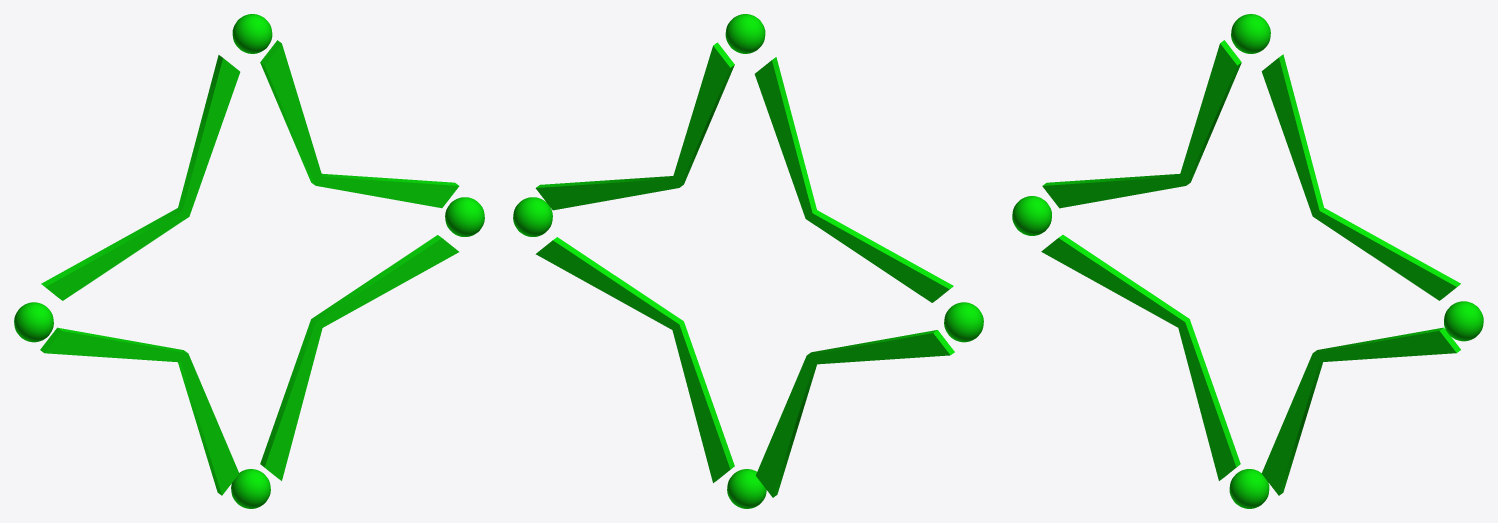
The model's file is ret3.fbx.
3 renders of one model, left to right at view 1: azimuth 30°, elevation 25°; view 2: azimuth 150°, elevation 25°; view 3: azimuth 330°, elevation 25°, orthographic.
Visible parts, largest first — view 1: pCube7, pCube9, pCube10, pCube8, pSphere4, pSphere1, pSphere3, pSphere5; view 2: pCube9, pCube7, pCube10, pCube8, pSphere4, pSphere1, pSphere3, pSphere5; view 3: pCube8, pCube10, pCube7, pCube9, pSphere3, pSphere4, pSphere1, pSphere5.
Boxes of the visible parts, <box> form: pCube7: <box>41,55,240,300</box>; pCube9: <box>260,235,458,480</box>; pCube10: <box>260,40,459,208</box>; pCube8: <box>40,327,239,495</box>; pSphere4: <box>14,302,53,342</box>; pSphere1: <box>232,14,272,53</box>; pSphere3: <box>445,197,484,236</box>; pSphere5: <box>231,469,270,508</box>; pCube9: <box>535,237,734,482</box>; pCube7: <box>754,57,953,302</box>; pCube10: <box>535,42,734,210</box>; pCube8: <box>755,330,954,497</box>; pSphere4: <box>944,302,983,342</box>; pSphere1: <box>725,14,765,53</box>; pSphere3: <box>513,197,552,236</box>; pSphere5: <box>727,469,766,508</box>; pCube8: <box>1041,235,1240,480</box>; pCube10: <box>1261,54,1460,300</box>; pCube7: <box>1042,40,1241,208</box>; pCube9: <box>1261,327,1460,495</box>; pSphere3: <box>1444,301,1483,341</box>; pSphere4: <box>1012,196,1051,235</box>; pSphere1: <box>1231,14,1270,53</box>; pSphere5: <box>1229,469,1269,508</box>.
Size of the model in its own units: 2.69 by 0.2004 by 2.71.
